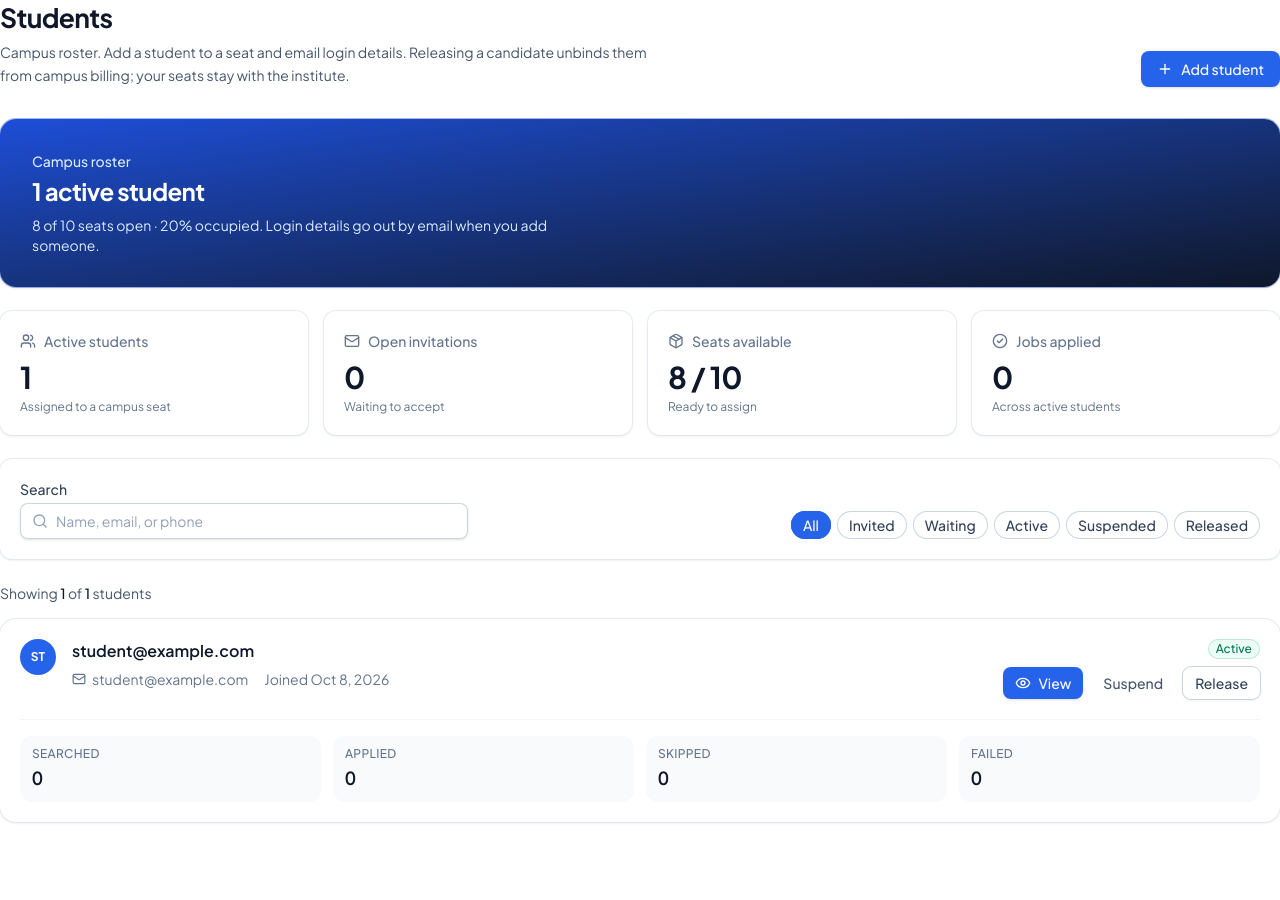
Test: institute portal wiring › releases a candidate without cancelling institute seats
What coordinates should you click on to do the following:
click the button "Release"
I would click on:
 (1222, 683)
Its box is [1183,667,1260,699].
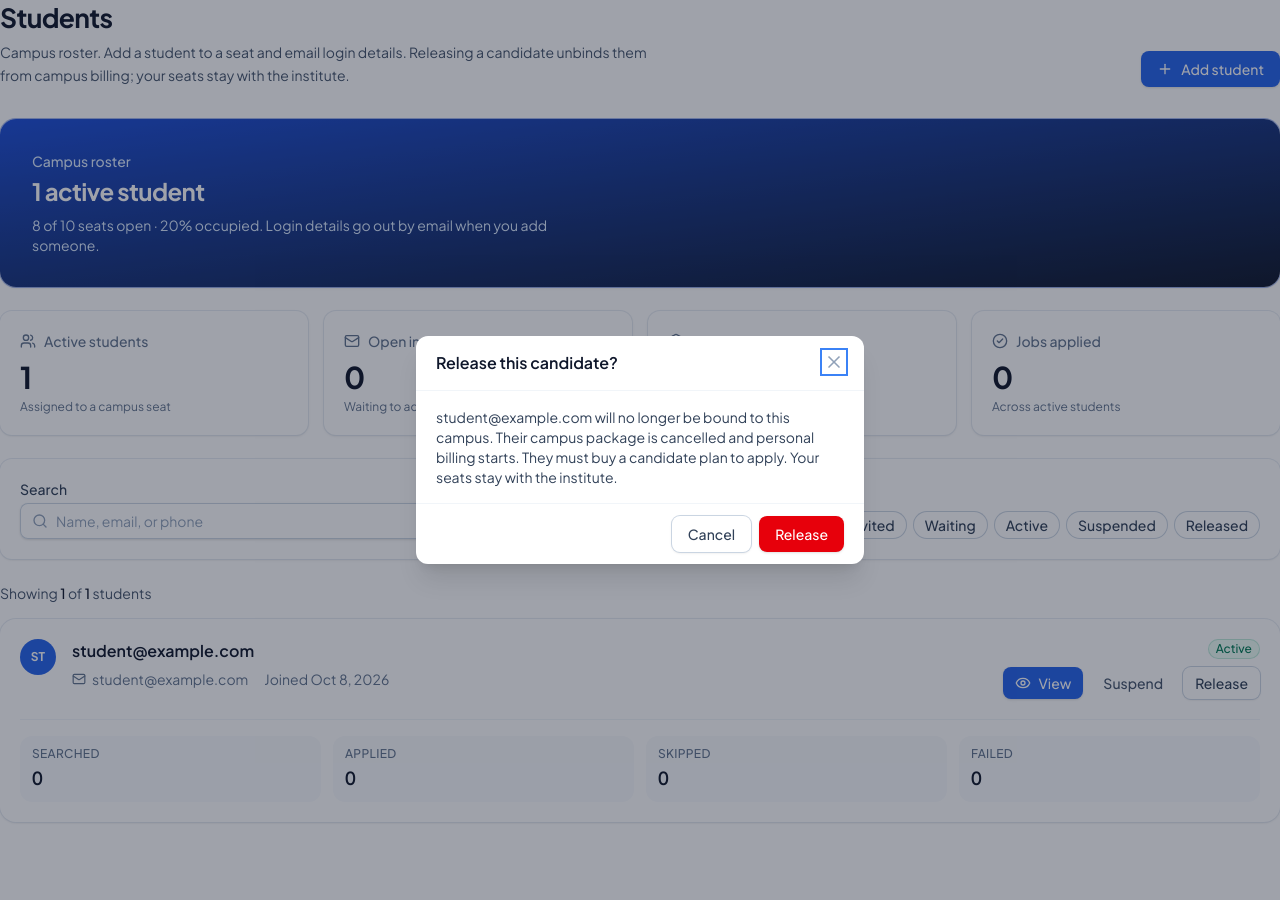
Now the heading "Release this candidate?" is shown, box [436,352,626,374]
Now the dialog shows "will no longer be bound to this campus", box [436,408,819,486]
Now the dialog shows "must buy a candidate plan to apply", box [436,408,819,486]
What coordinates should you click on to do the following:
click the button "Release"
I would click on:
 (802, 534)
Its box is [759,516,844,552].
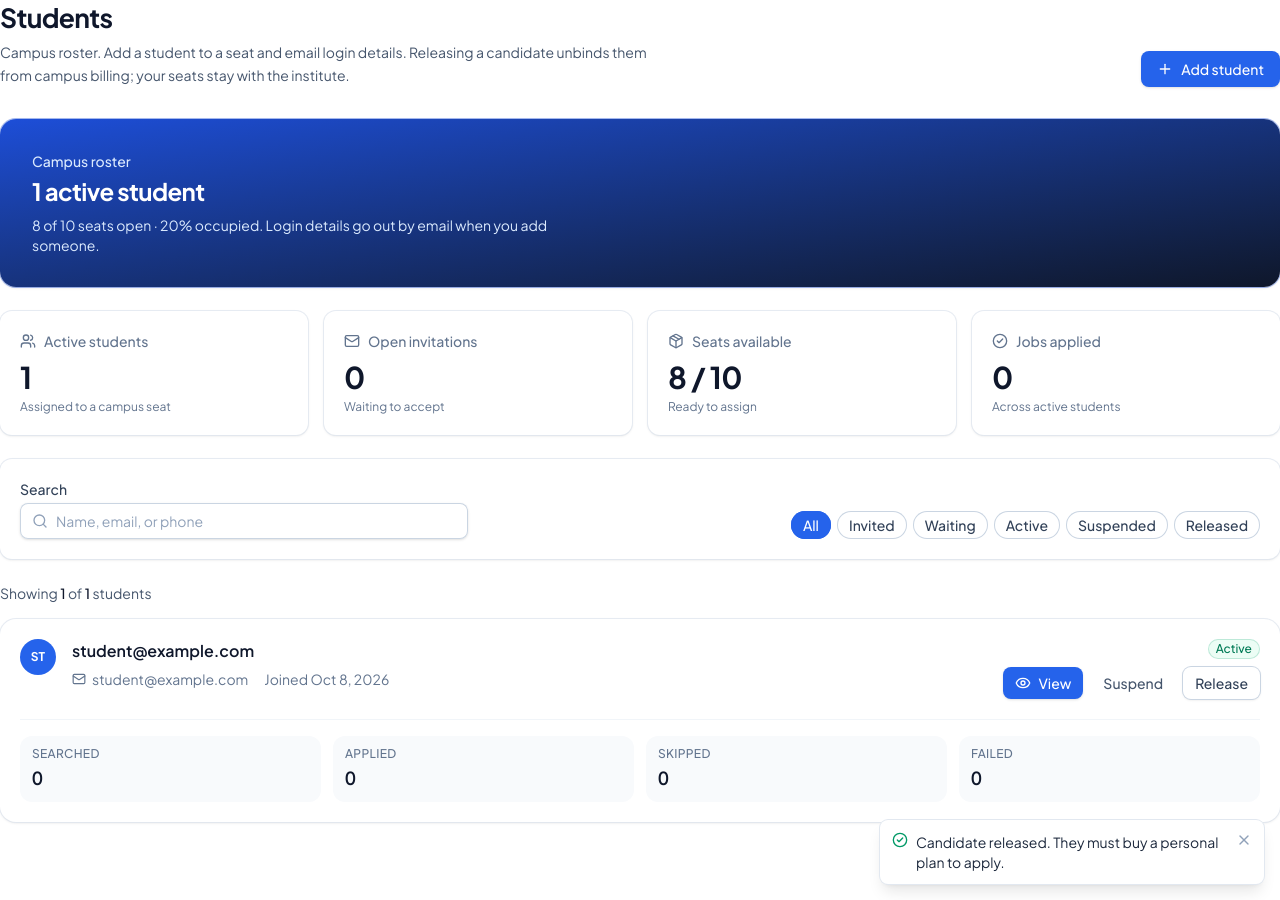
Now the text "Candidate released. They must buy a personal plan to apply." is shown, box [916,832,1228,872]
